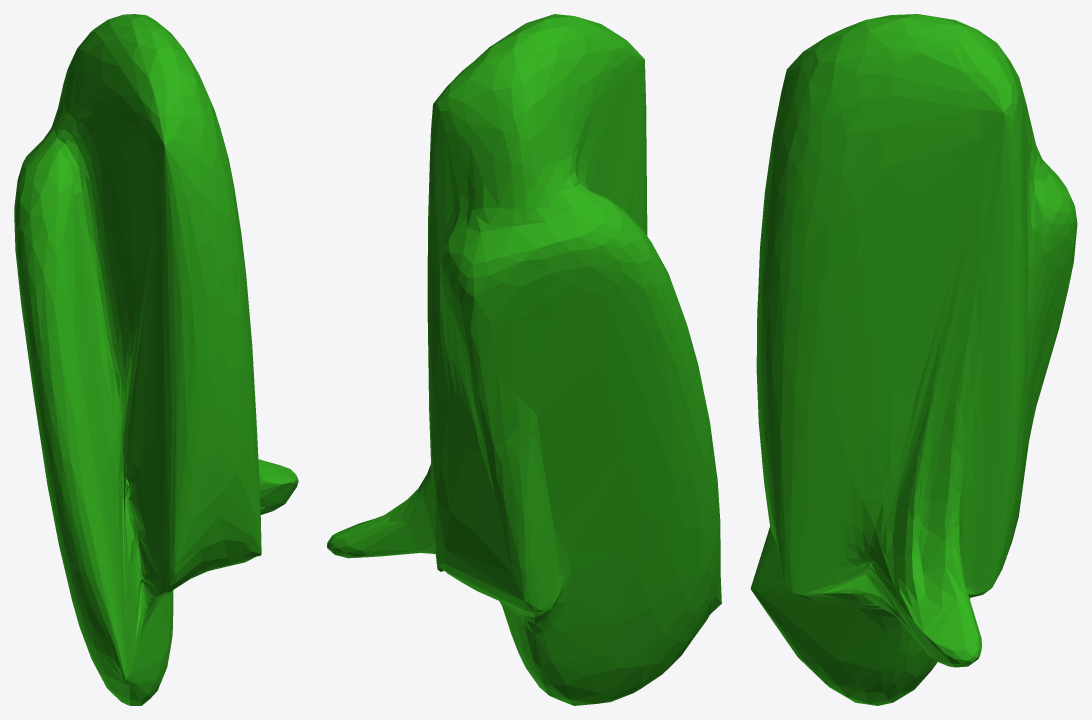
3 renders of one model, left to right at view 1: azimuth 30°, elevation 25°; view 2: azimuth 150°, elevation 25°; view 3: azimuth 270°, elevation 25°, orthographic. The views are drawn at different scales.
Parts seen in each view (by area): view 1: 344_Cube.1404; view 2: 344_Cube.1404; view 3: 344_Cube.1404.
Part boxes in pixels (box(x1,y1,x2,y2)): 344_Cube.1404: box(14, 14, 298, 705); 344_Cube.1404: box(327, 14, 721, 705); 344_Cube.1404: box(750, 14, 1077, 705).
Bounding box in the file's own units: 6.87 × 14.15 × 6.01.
